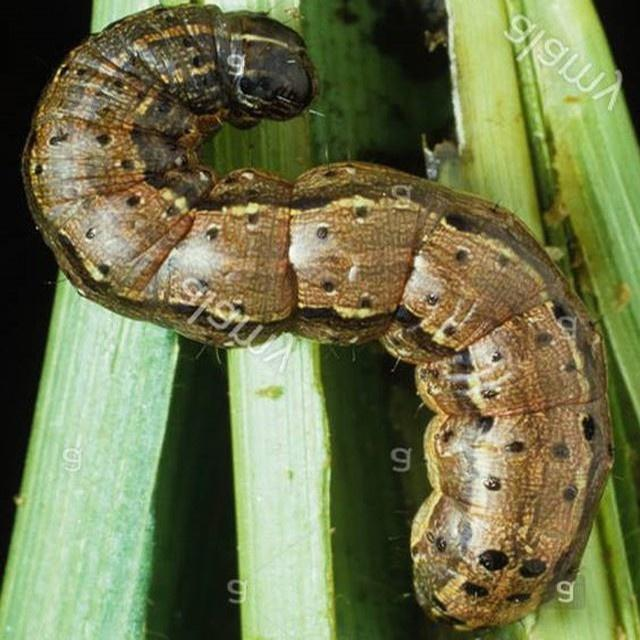gusano_cogollero: (27, 2, 615, 625)
